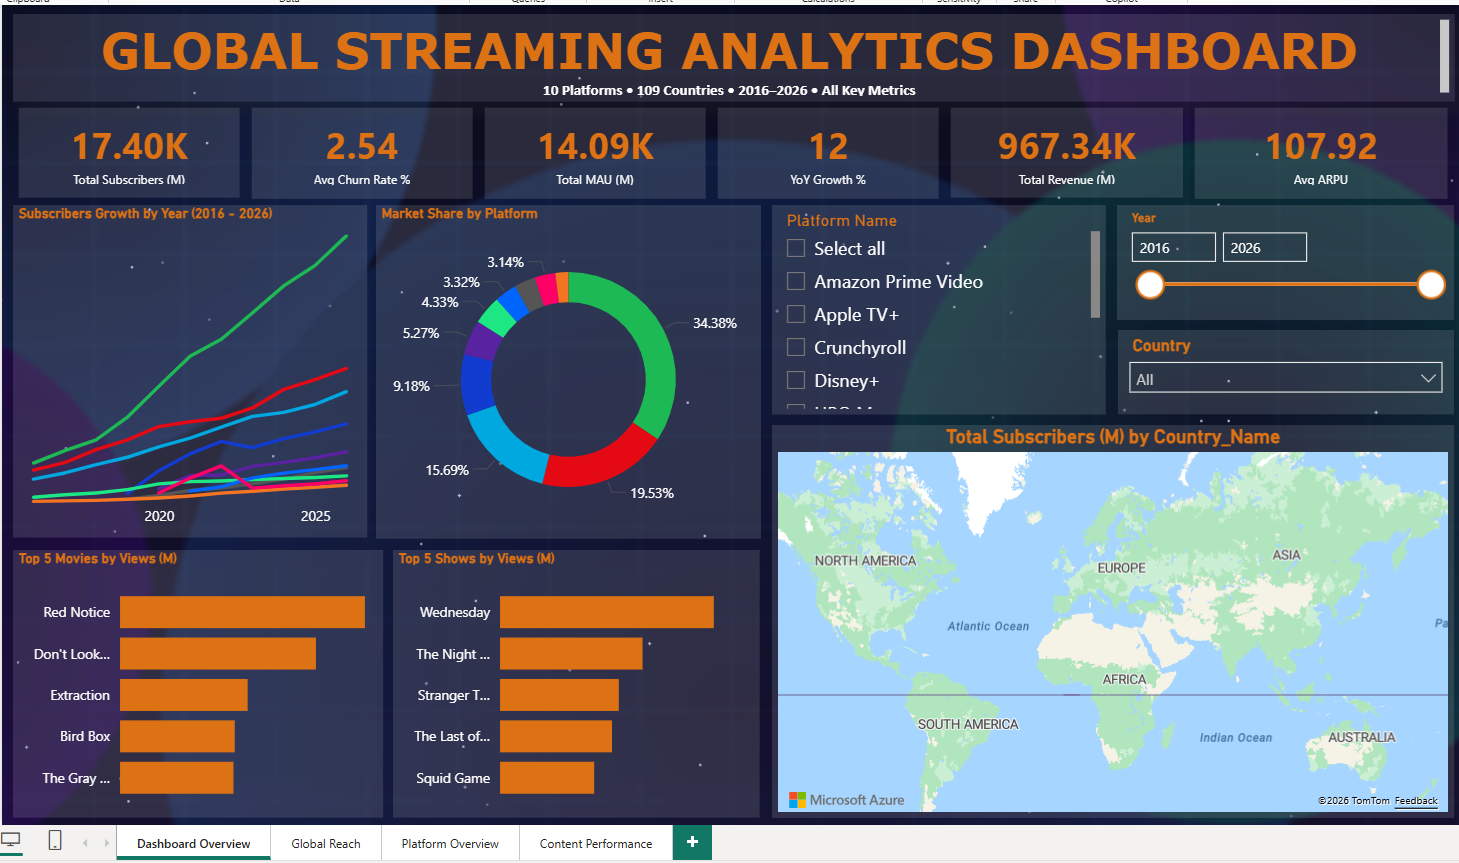

This screenshot's page, from the dashboard's own definition file:
{"tool":"powerbi","page":{"name":"Dashboard Overview","canvas":[1280,720],"ordinal":0},"visuals":[{"type":"textbox","box":[9.7,7.7,1265.5,77.2],"z":0},{"type":"cardVisual","fields":{"Data":["Fact_Subscribers.Total Subscribers (M)"]},"box":[9.7,84.9,204.6,89.8],"z":1000},{"type":"cardVisual","fields":{"Data":["Fact_Subscribers.Total Revenue (M)"]},"box":[828.2,84.9,214.3,89.8],"z":2000},{"type":"cardVisual","fields":{"Data":["Fact_Subscribers.Avg ARPU"]},"box":[1042.5,84.9,232.6,90.7],"z":3000},{"type":"cardVisual","fields":{"Data":["Fact_Subscribers.Avg Churn Rate %"]},"box":[214.3,84.9,204.6,90.7],"z":4000},{"type":"cardVisual","fields":{"Data":["Fact_Subscribers.Total MAU (M)"]},"box":[418.9,84.9,204.6,90.7],"z":5000},{"type":"cardVisual","fields":{"Data":["Fact_Subscribers.YoY Growth %"]},"box":[623.6,84.9,204.6,90.7],"z":6000},{"type":"donutChart","title":"Market Share by Platform","fields":{"Category":["Dim_Platforms.Platform_Name"],"Y":["Fact_Subscribers.Total Subscribers (M)"]},"box":[328.2,175.7,337.9,293.5],"z":7000},{"type":"clusteredBarChart","title":"Top 5 Movies by Views (M)","fields":{"Category":["Dim_Content.Title"],"Y":["Sum(Dim_Content.Views_M)"]},"box":[9.7,478.8,325.3,234.6],"z":8000},{"type":"clusteredBarChart","title":"Top 5 Shows by Views (M)","fields":{"Category":["Dim_Content.Title"],"Y":["Sum(Dim_Content.Views_M)"]},"box":[343.7,478.8,322.4,234.6],"z":9000},{"type":"azureMap","fields":{"Category":["Dim_Countries.Country_Name"]},"box":[675.7,368.7,599.5,344.6],"z":10000},{"type":"slicer","fields":{"Values":["Dim_Year.Year"]},"box":[978.8,175.7,296.3,101.4],"z":11000},{"type":"slicer","fields":{"Values":["Dim_Platforms.Platform_Name"]},"box":[675.7,175.7,293.5,184.4],"z":12000},{"type":"slicer","fields":{"Values":["Dim_Countries.Country_Name"]},"box":[979.8,285.7,295.4,74.3],"z":13000},{"type":"areaChart","title":"Subscribers Growth by Year (2016 - 2026)","fields":{"Category":["Dim_Year.Year"],"Y":["Fact_Subscribers.Total Subscribers (M)"],"Series":["Dim_Platforms.Platform_Name"]},"box":[9.7,175.7,310.8,291.5],"z":15000}]}

Visuals, with their boxes on the page's 1280x720 design canvas (x1, y1, x2, y2). These are canvas units, not pixel positions in the 1459x863 screenshot, which may show the page scaled, cropped or inside an application window:
textbox: <bbox>10, 8, 1275, 85</bbox>
cardVisual - Fact_Subscribers.Total Subscribers (M): <bbox>10, 85, 214, 175</bbox>
cardVisual - Fact_Subscribers.Total Revenue (M): <bbox>828, 85, 1042, 175</bbox>
cardVisual - Fact_Subscribers.Avg ARPU: <bbox>1042, 85, 1275, 176</bbox>
cardVisual - Fact_Subscribers.Avg Churn Rate %: <bbox>214, 85, 419, 176</bbox>
cardVisual - Fact_Subscribers.Total MAU (M): <bbox>419, 85, 624, 176</bbox>
cardVisual - Fact_Subscribers.YoY Growth %: <bbox>624, 85, 828, 176</bbox>
"Market Share by Platform" donutChart: <bbox>328, 176, 666, 469</bbox>
"Top 5 Movies by Views (M)" clusteredBarChart: <bbox>10, 479, 335, 713</bbox>
"Top 5 Shows by Views (M)" clusteredBarChart: <bbox>344, 479, 666, 713</bbox>
azureMap - Dim_Countries.Country_Name: <bbox>676, 369, 1275, 713</bbox>
slicer - Dim_Year.Year: <bbox>979, 176, 1275, 277</bbox>
slicer - Dim_Platforms.Platform_Name: <bbox>676, 176, 969, 360</bbox>
slicer - Dim_Countries.Country_Name: <bbox>980, 286, 1275, 360</bbox>
"Subscribers Growth by Year (2016 - 2026)" areaChart: <bbox>10, 176, 320, 467</bbox>
